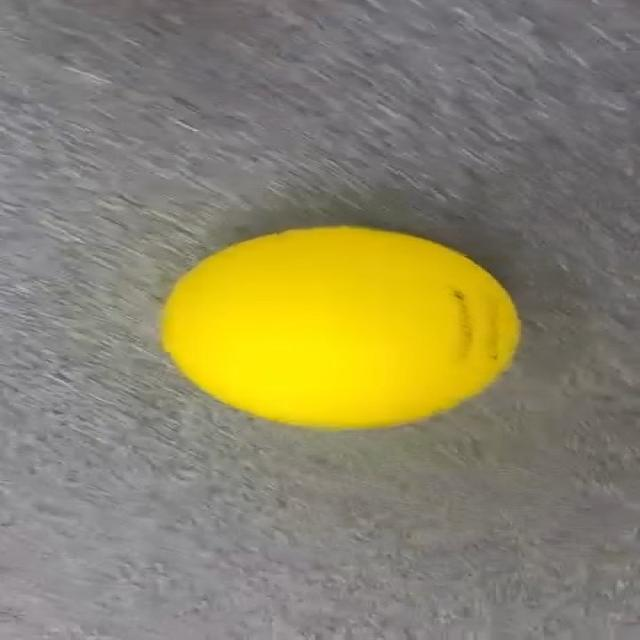Fuels: (164, 226, 517, 425)
